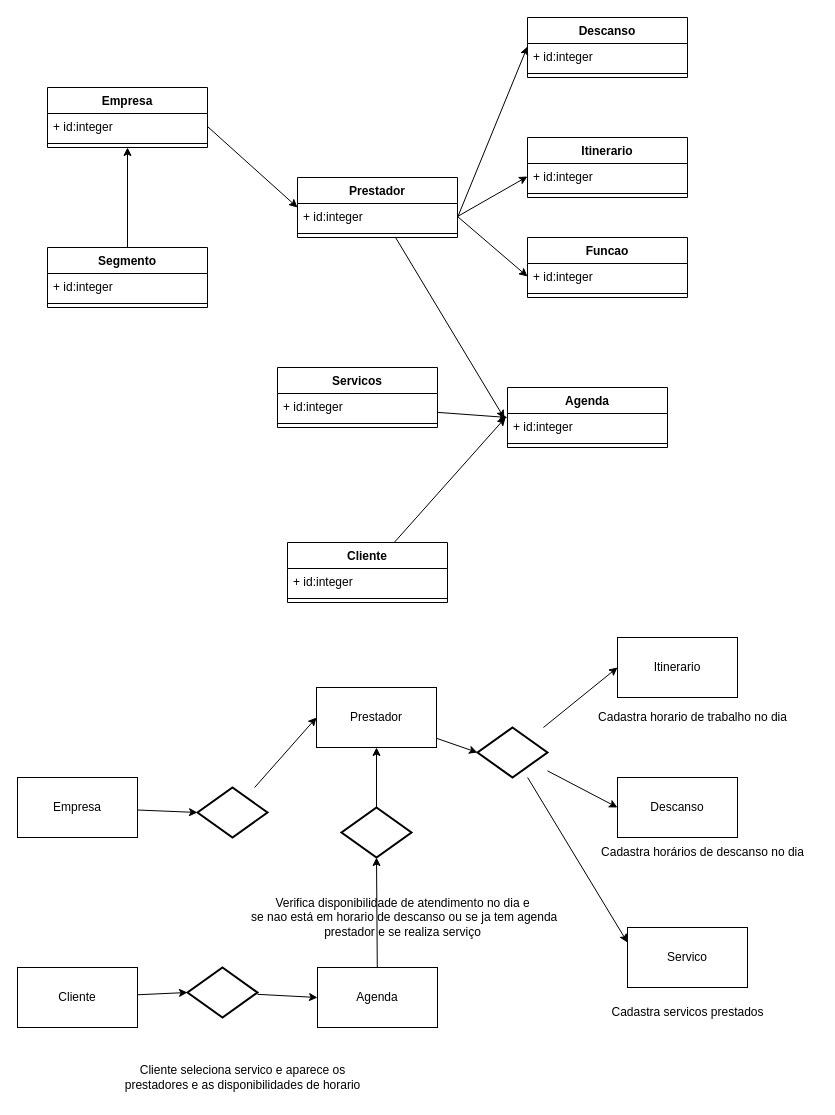
Some shapes in this 835 by 1115 pixel diagram are drawn without their labels. The shapes that lost their labels are listed below. From the top down, each one's centre as x and y in pixels, then its label:
point (512, 752): inclui
point (232, 812): possui
point (376, 832): Verifica
point (222, 992): Marca
